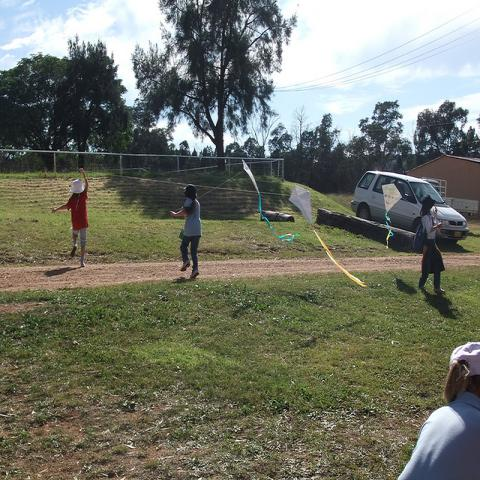car: (351, 170, 470, 243)
